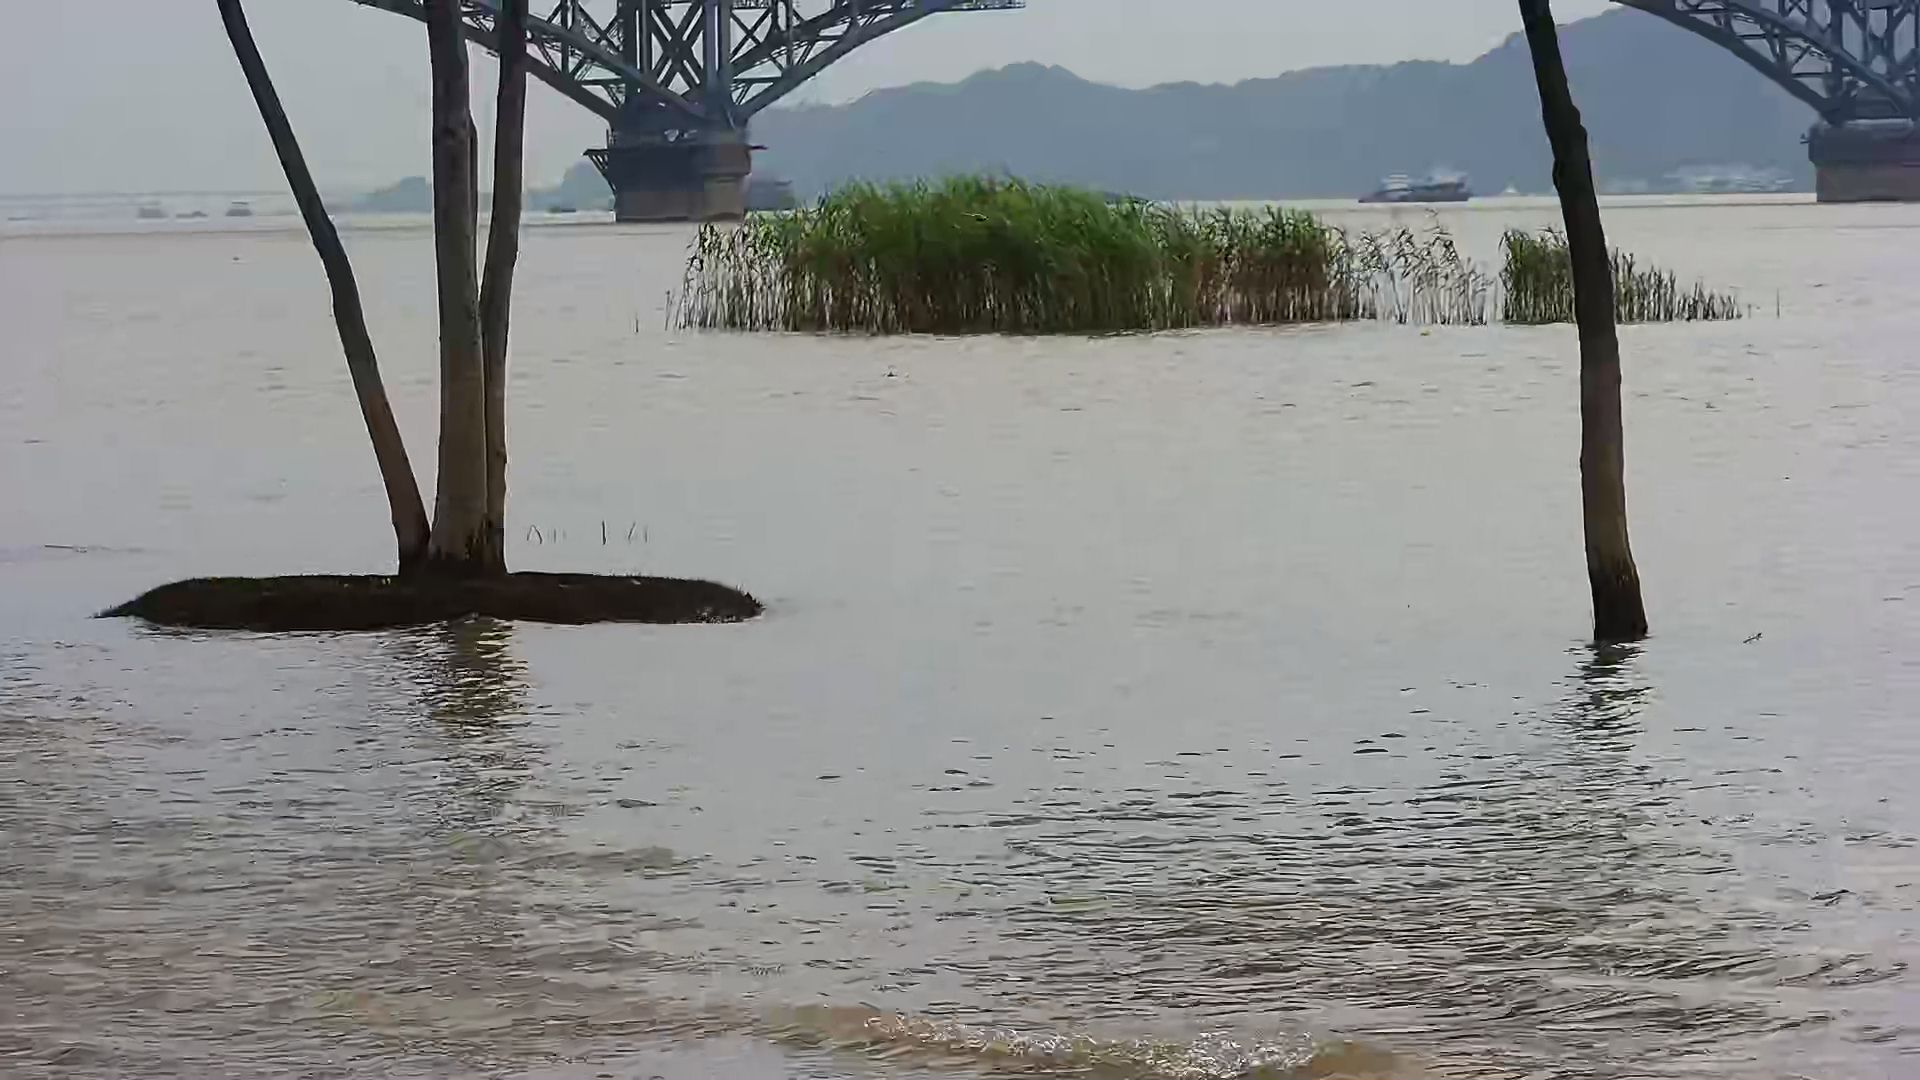bridge: (326, 3, 1920, 222)
grass: (682, 171, 1768, 330)
tree: (115, 3, 764, 617), (1520, 3, 1647, 640)
